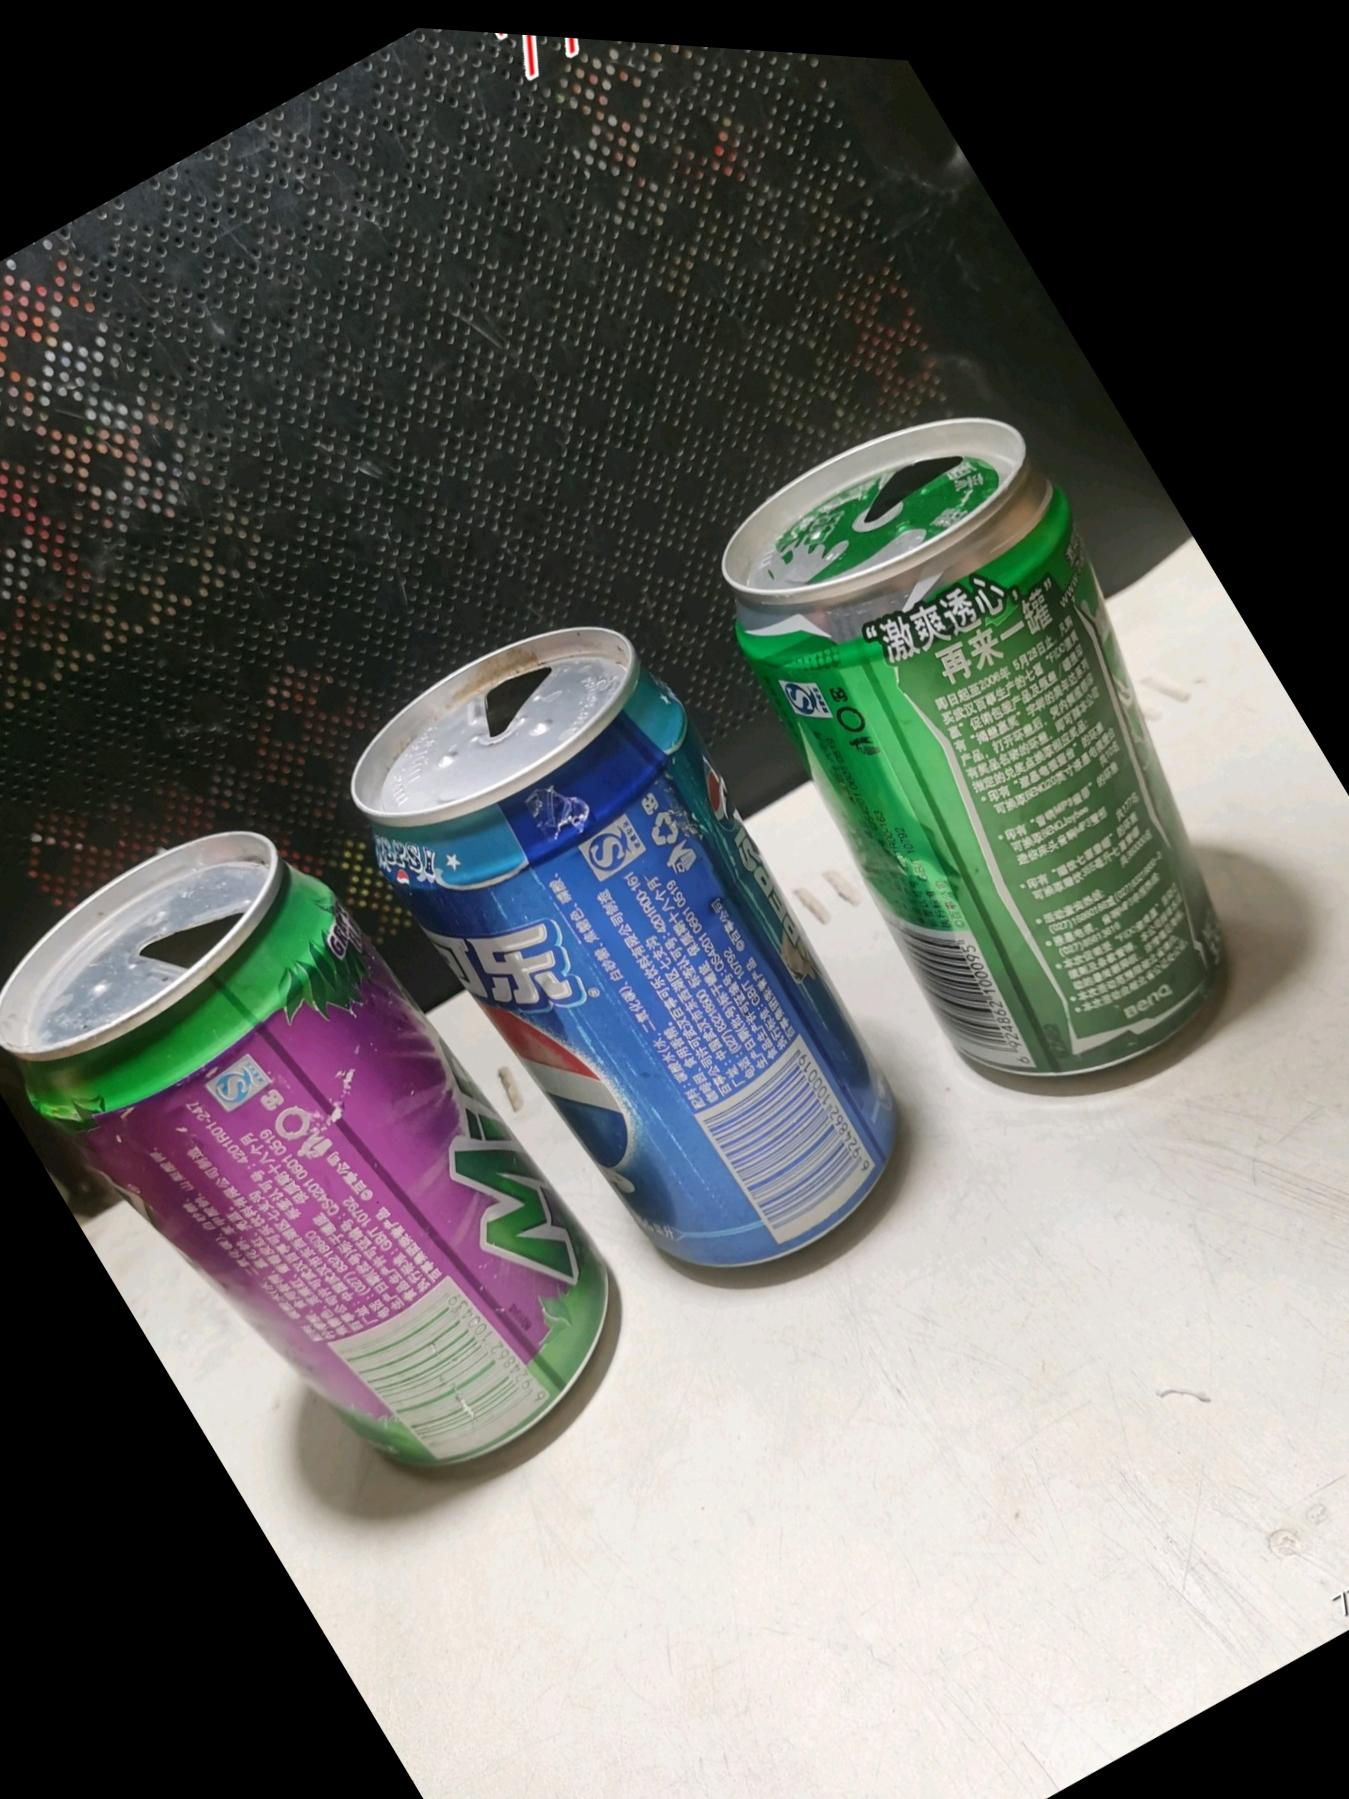metal: (0, 830, 608, 1465), (351, 626, 896, 1264), (721, 415, 1223, 1079)
